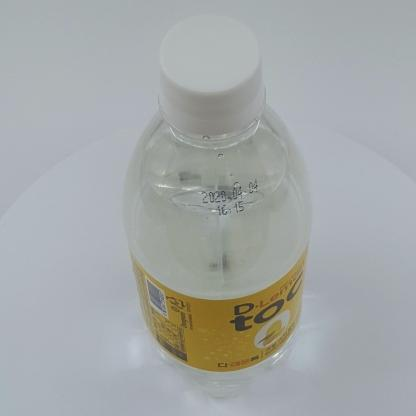------500ML: (122, 14, 313, 397)
